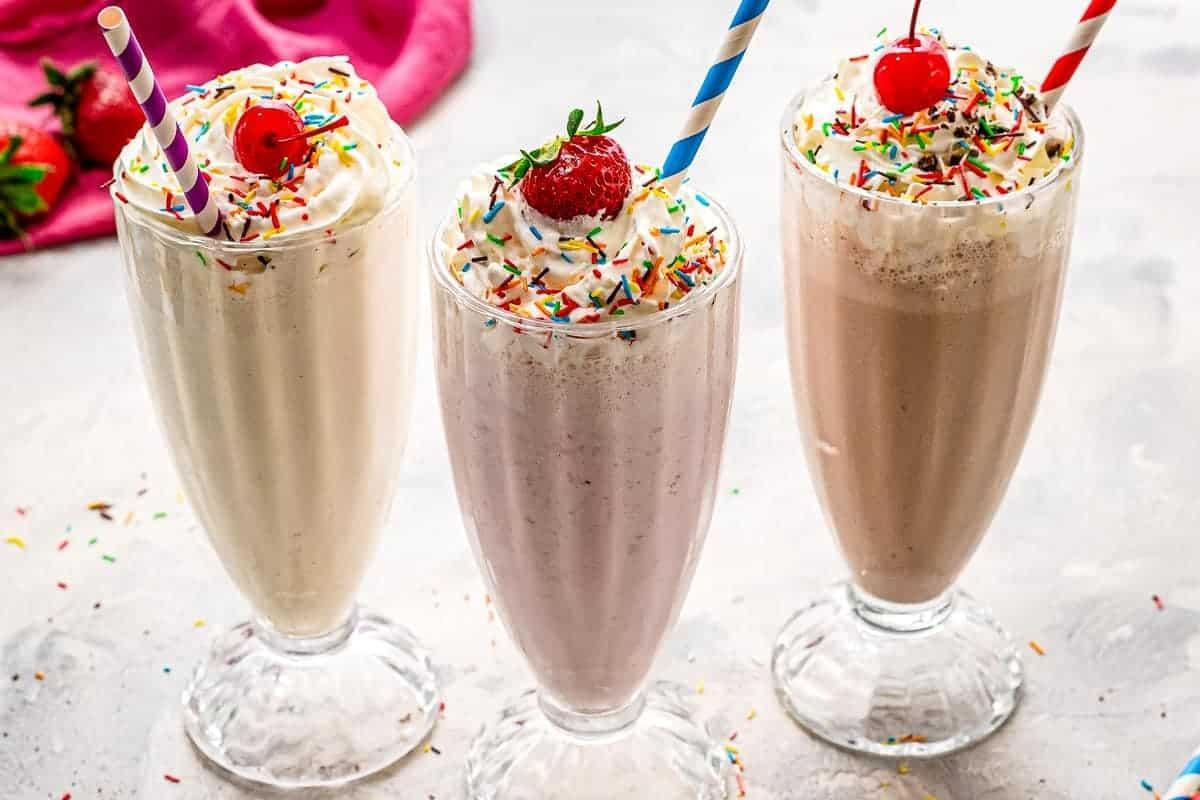glass-wine: (106, 71, 437, 789), (764, 53, 1090, 762), (423, 158, 748, 800)
